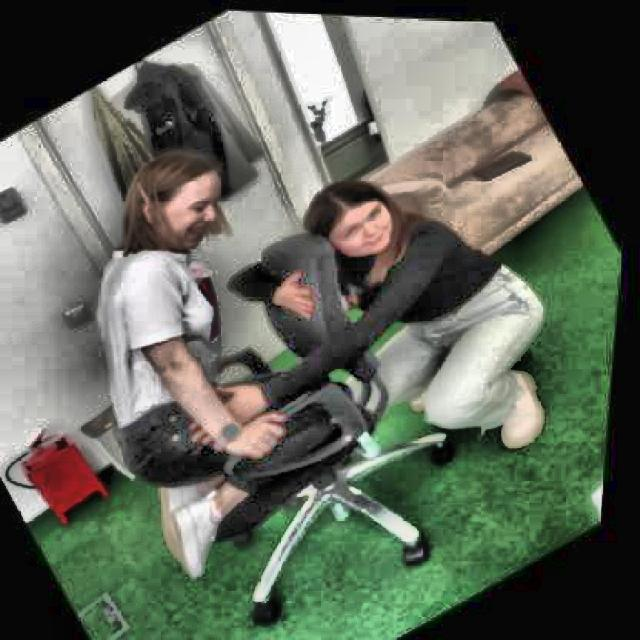cadeira: (87, 196, 536, 638)
